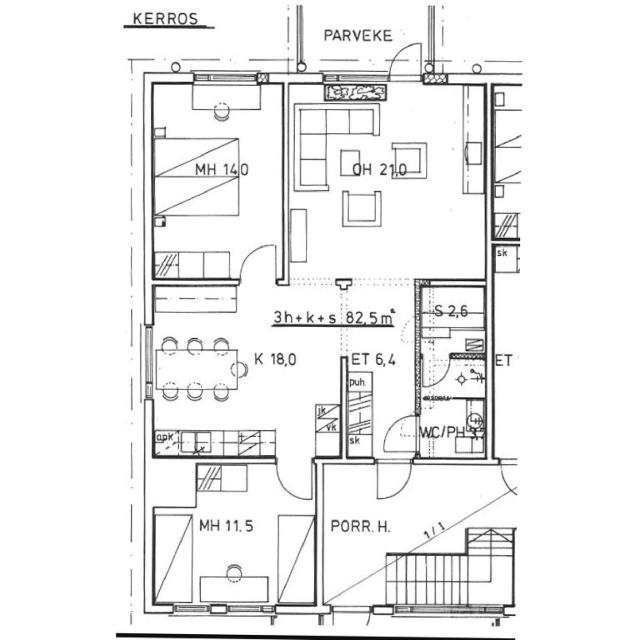door: (416, 395, 488, 461), (418, 338, 488, 397), (234, 237, 282, 285), (272, 454, 318, 504), (384, 39, 425, 83), (496, 455, 522, 497)
window: (384, 601, 505, 622), (185, 66, 265, 89), (312, 69, 389, 91), (137, 323, 158, 402), (217, 601, 274, 617), (170, 601, 211, 616)
zone: (290, 95, 490, 293), (491, 29, 640, 265), (149, 78, 287, 282), (153, 324, 343, 460), (155, 463, 318, 612), (303, 89, 485, 188), (153, 283, 241, 350), (416, 396, 489, 462), (416, 337, 488, 395), (418, 282, 488, 338), (379, 412, 424, 454), (372, 456, 412, 503)
